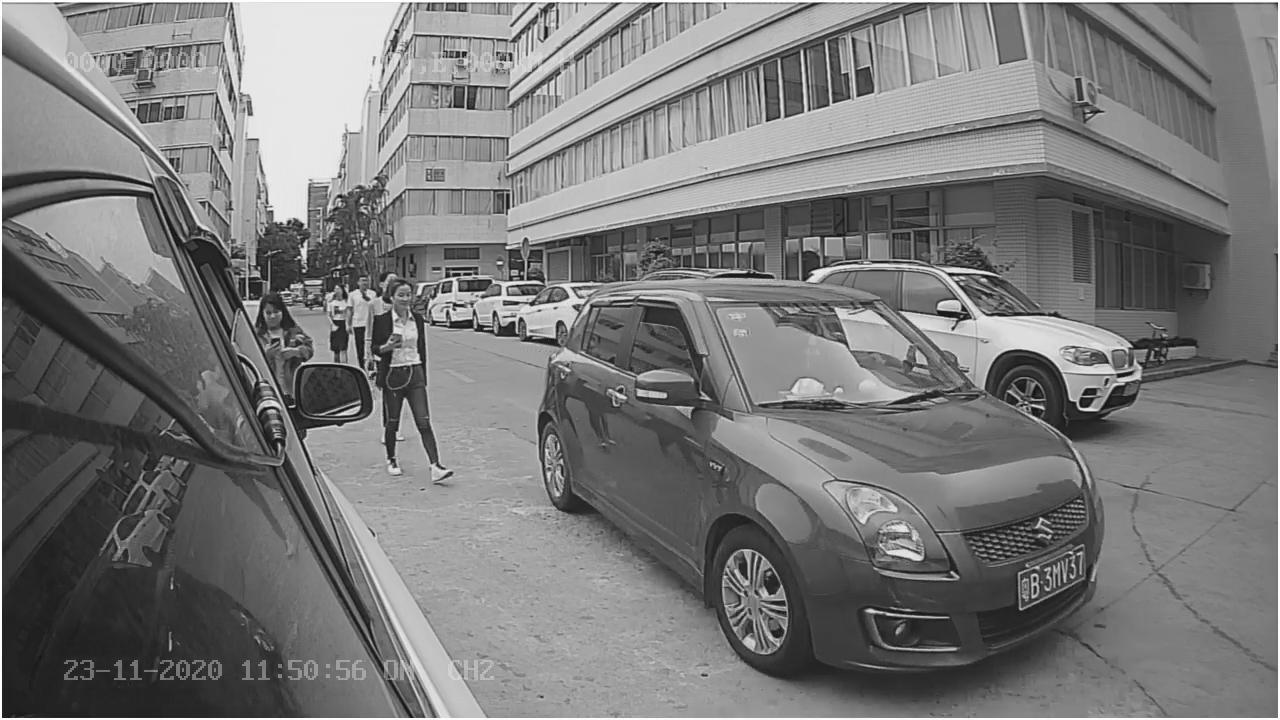person: (371, 279, 461, 483)
